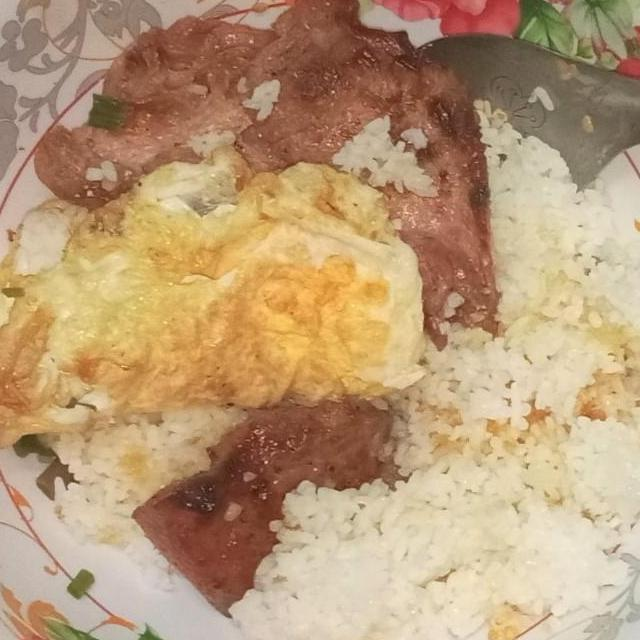com: (226, 315, 640, 640), (460, 92, 640, 436), (45, 399, 251, 548)
suon: (217, 0, 516, 354), (129, 391, 413, 624), (26, 12, 306, 214)
trung: (0, 140, 437, 455)
